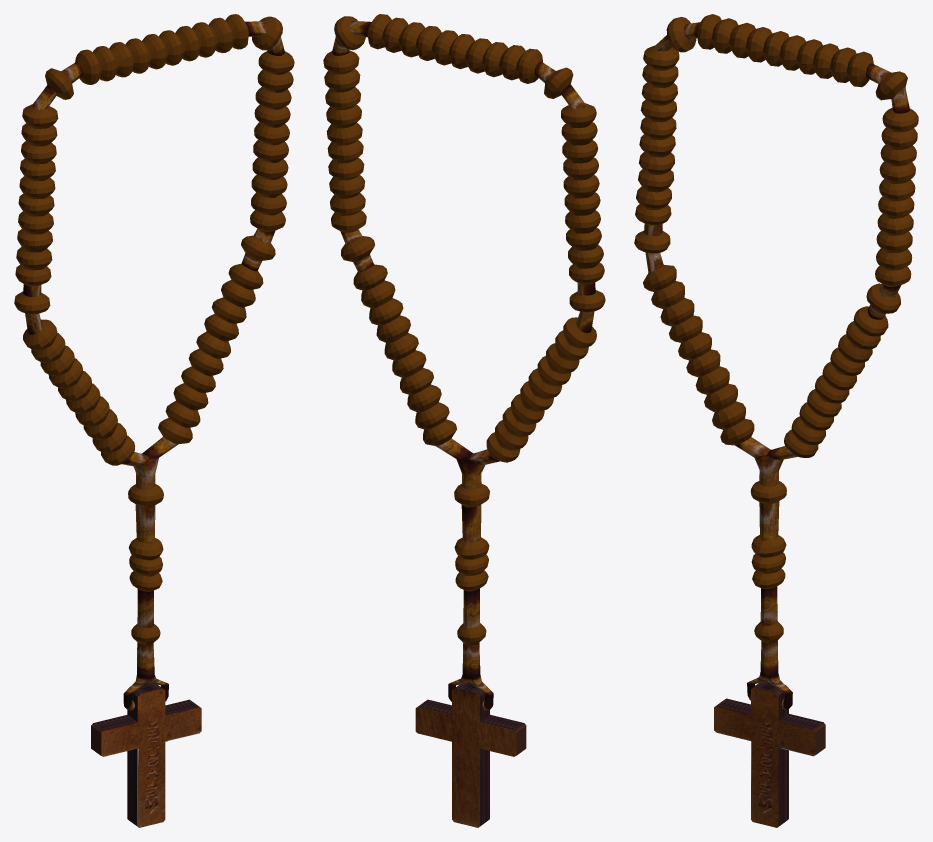
File: Rosario.fbx
The picture shows the model from 3 angles, left to right: view 1: azimuth 30°, elevation 25°; view 2: azimuth 150°, elevation 25°; view 3: azimuth 330°, elevation 25°; orthographic projection.
Parts seen in each view (by area): view 1: Cruz; view 2: Cruz; view 3: Cruz.
Part boxes in pixels (x1=…): Cruz: x1=14, y1=14, x2=294, y2=827; Cruz: x1=323, y1=14, x2=605, y2=827; Cruz: x1=634, y1=14, x2=918, y2=827.
Size of the model in its own units: 171 by 465 by 22.53.
6 materials, 5 textured.
